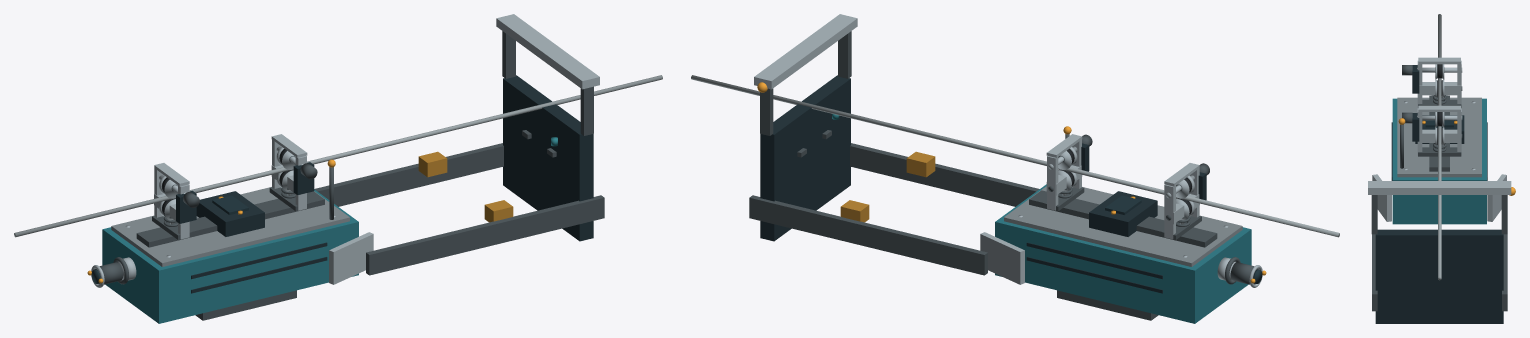
The model's file is LineGuard.glb.
The picture shows the model from 3 angles, left to right: view 1: azimuth 30°, elevation 25°; view 2: azimuth 150°, elevation 25°; view 3: azimuth 270°, elevation 25°; orthographic projection. The views are drawn at different scales.
Visible parts, largest first — view 1: Chassis, StopBlock, DockRail-1, TopCover, DockRail1, GroundWire, CrossBeam, ControlBox, Spine, Horn-1, Battery, BeamPost-1 (+7 smaller); view 2: Chassis, StopBlock, DockRail1, TopCover, DockRail-1, GroundWire, CrossBeam, ControlBox, Spine, Horn1, Battery, BeamPost1 (+7 smaller); view 3: StopBlock, Chassis, TopCover, CrossBeam, GroundWire, Slider-0.3, Slider0.3, Spine, DockRail1, Horn1, Horn-1, DockRail-1 (+18 smaller).
Boxes of the visible parts, <box> form: Chassis: <box>102,189,358,323</box>; StopBlock: <box>503,75,593,241</box>; DockRail-1: <box>366,195,604,275</box>; TopCover: <box>111,187,349,266</box>; DockRail1: <box>314,143,503,206</box>; GroundWire: <box>14,75,662,237</box>; CrossBeam: <box>496,14,599,89</box>; ControlBox: <box>196,191,264,236</box>; Spine: <box>136,191,324,247</box>; Horn-1: <box>329,232,373,284</box>; Battery: <box>195,290,296,320</box>; BeamPost-1: <box>580,86,593,135</box>; Chassis: <box>995,184,1251,323</box>; StopBlock: <box>760,75,850,241</box>; DockRail1: <box>749,195,987,275</box>; TopCover: <box>1004,186,1242,266</box>; DockRail-1: <box>850,143,1039,206</box>; GroundWire: <box>691,75,1339,237</box>; CrossBeam: <box>754,14,857,89</box>; ControlBox: <box>1089,191,1157,236</box>; Spine: <box>1029,190,1217,247</box>; Horn1: <box>980,232,1024,284</box>; Battery: <box>1057,290,1158,320</box>; BeamPost1: <box>760,88,773,135</box>; StopBlock: <box>1375,229,1503,323</box>; Chassis: <box>1392,98,1486,224</box>; TopCover: <box>1397,97,1481,177</box>; CrossBeam: <box>1368,181,1511,194</box>; GroundWire: <box>1438,14,1441,280</box>; Slider-0.3: <box>1418,82,1461,95</box>; Slider0.3: <box>1418,129,1461,142</box>; Spine: <box>1429,95,1449,171</box>; DockRail1: <box>1502,234,1507,311</box>; Horn1: <box>1487,174,1506,221</box>; Horn-1: <box>1372,174,1391,221</box>; DockRail-1: <box>1372,234,1377,311</box>.
Bounding box in the file's own units: 3.3 × 0.83 × 0.784.
